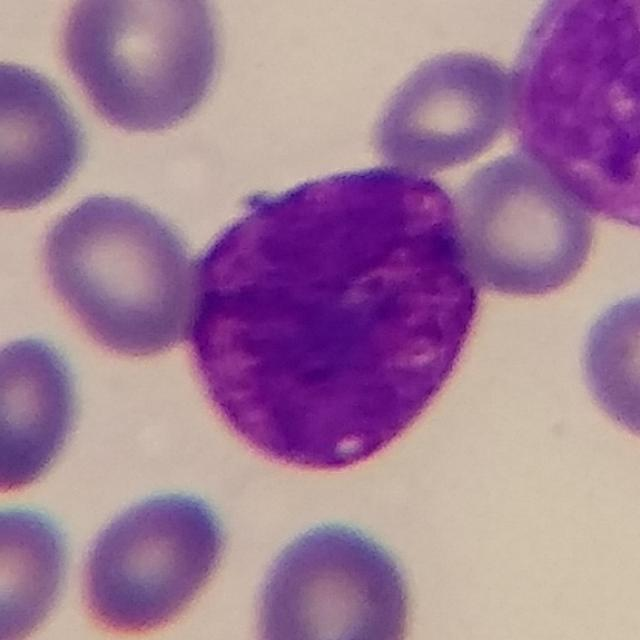Basophil: (169, 147, 486, 496), (505, 0, 640, 247)
RBC: (506, 2, 640, 243), (28, 185, 202, 363), (69, 483, 238, 640), (48, 0, 234, 139), (446, 144, 604, 302), (242, 513, 425, 640), (363, 42, 522, 172), (0, 327, 89, 503), (0, 53, 95, 217), (570, 281, 640, 452), (0, 501, 77, 640)
